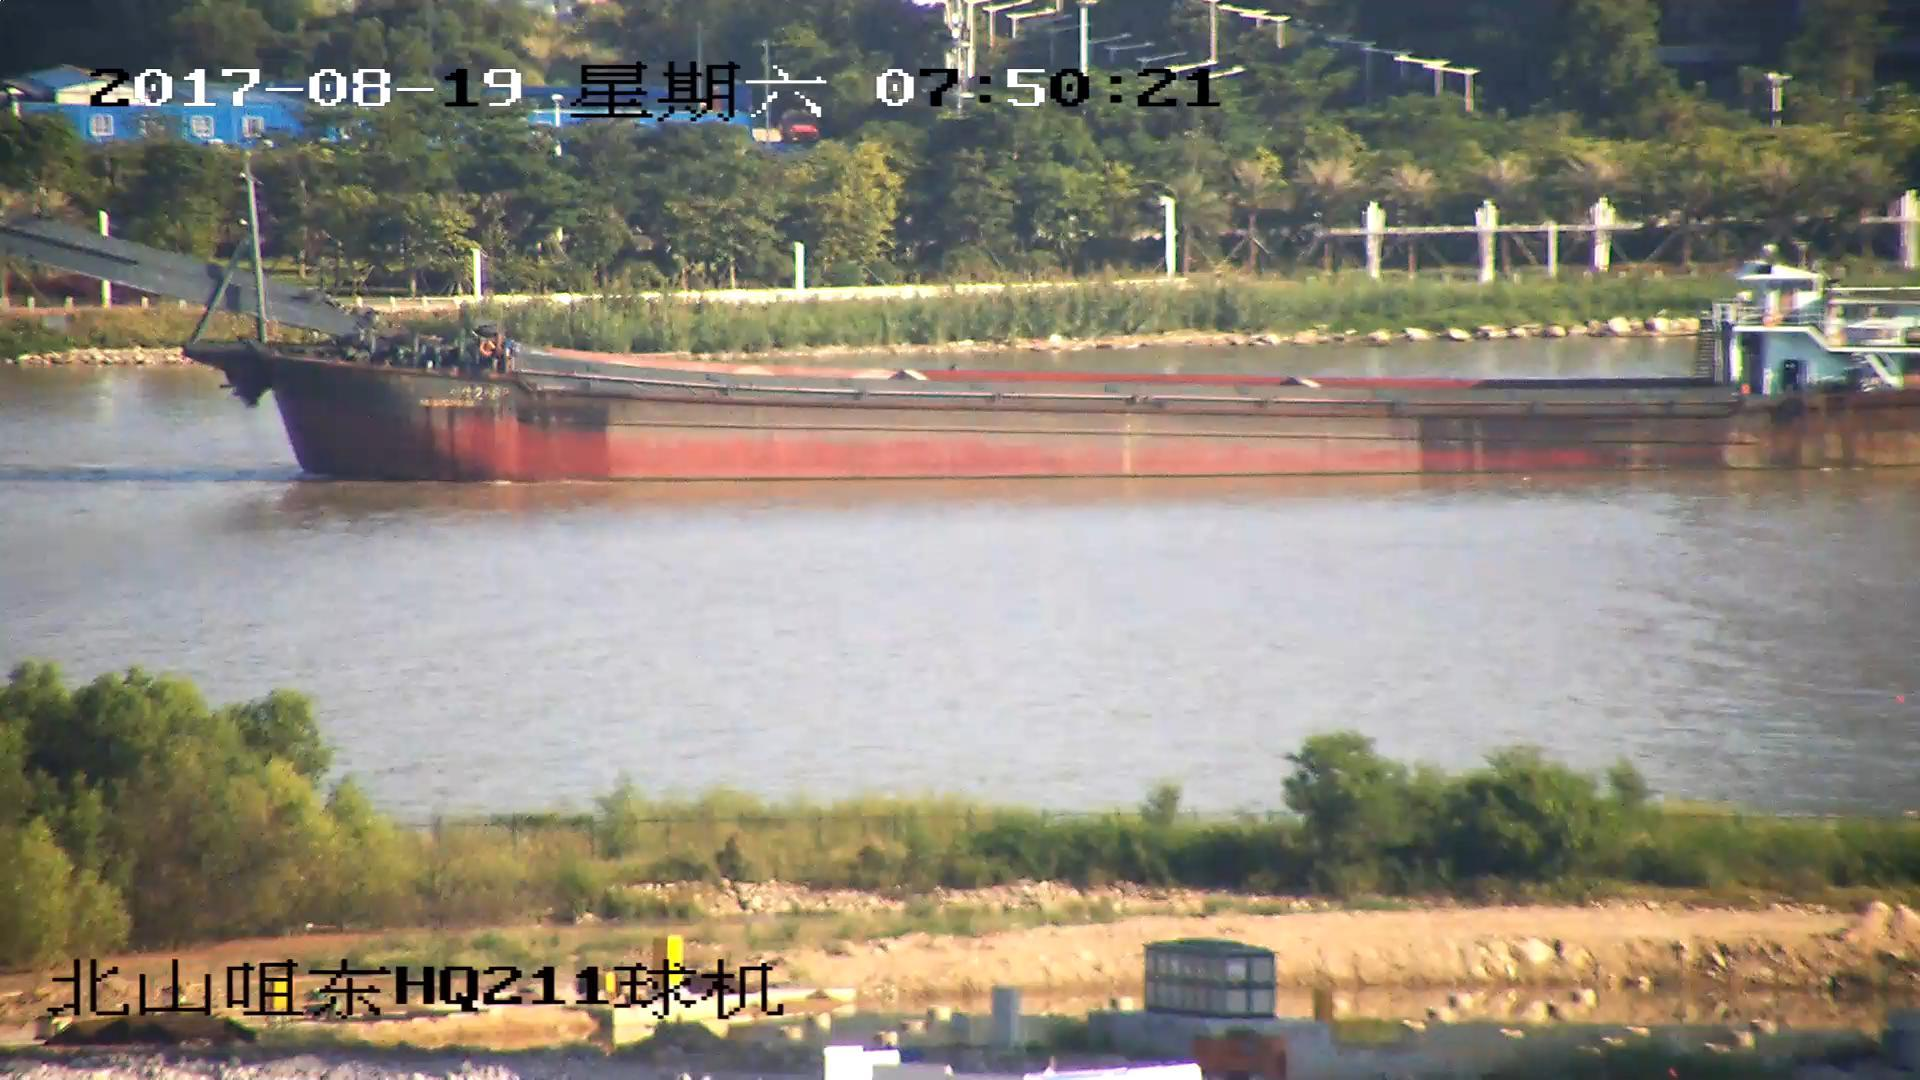Ship: (3, 167, 1920, 485)
